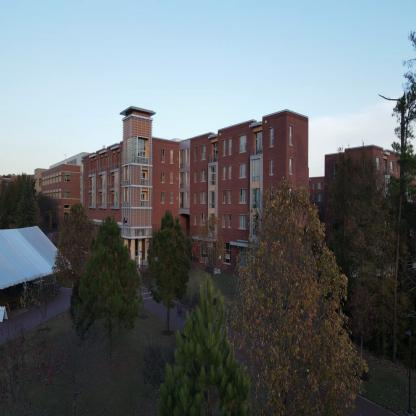Wolf Ridge: (76, 81, 324, 306), (325, 128, 414, 286)
